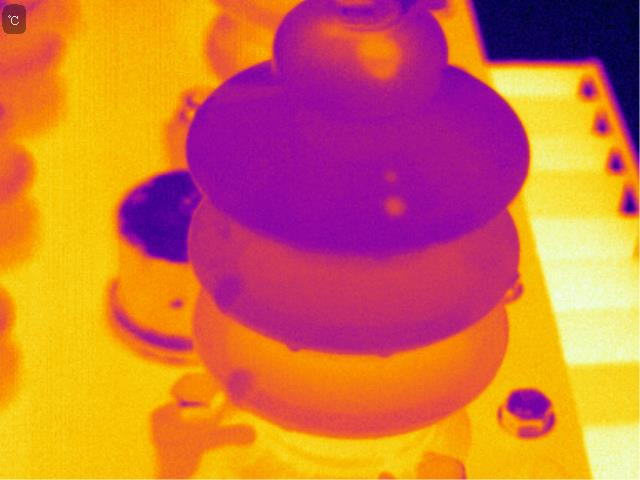Oil: (311, 2, 411, 82), (216, 39, 282, 105), (376, 169, 415, 223), (207, 272, 254, 311), (227, 370, 261, 398), (282, 330, 307, 357), (377, 341, 397, 365)
